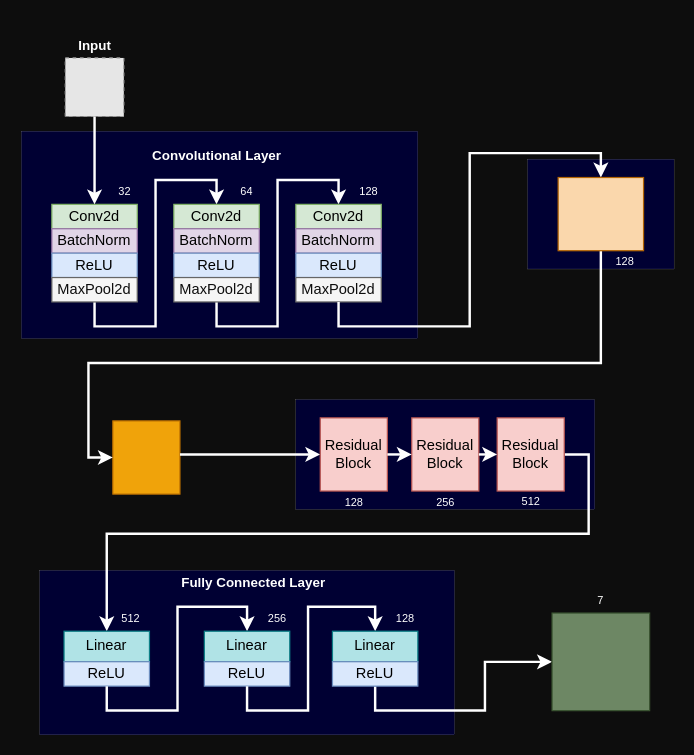
Some shapes in this 694 by 755 pixel diagram are drawn without their labels. Grey dashed boxes stand in for pictures. The centre of each missing label's shape, as x and y in pixels:
Adaptive Average Pooling: the point at 146,457
Output: the point at 600,661
Squeeze and Excitation Block: the point at 600,213
